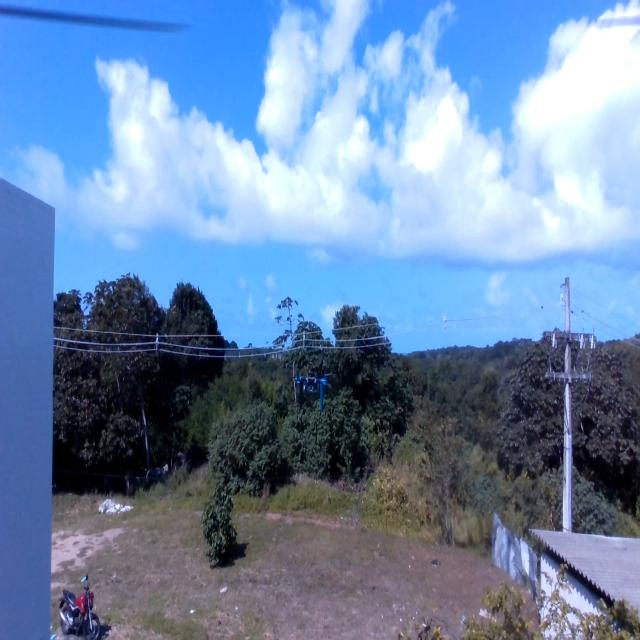-uav-: (292, 362, 341, 416)
